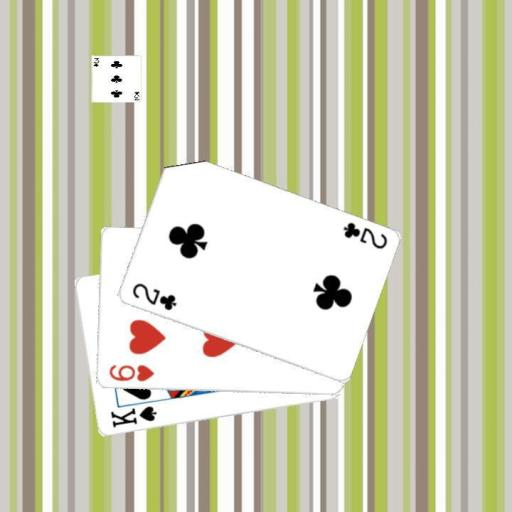card-corner: (128, 280, 178, 312), (339, 219, 388, 251), (107, 403, 158, 430), (105, 362, 155, 383)
